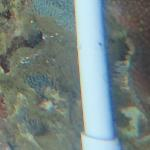dead: (3, 2, 148, 147)
